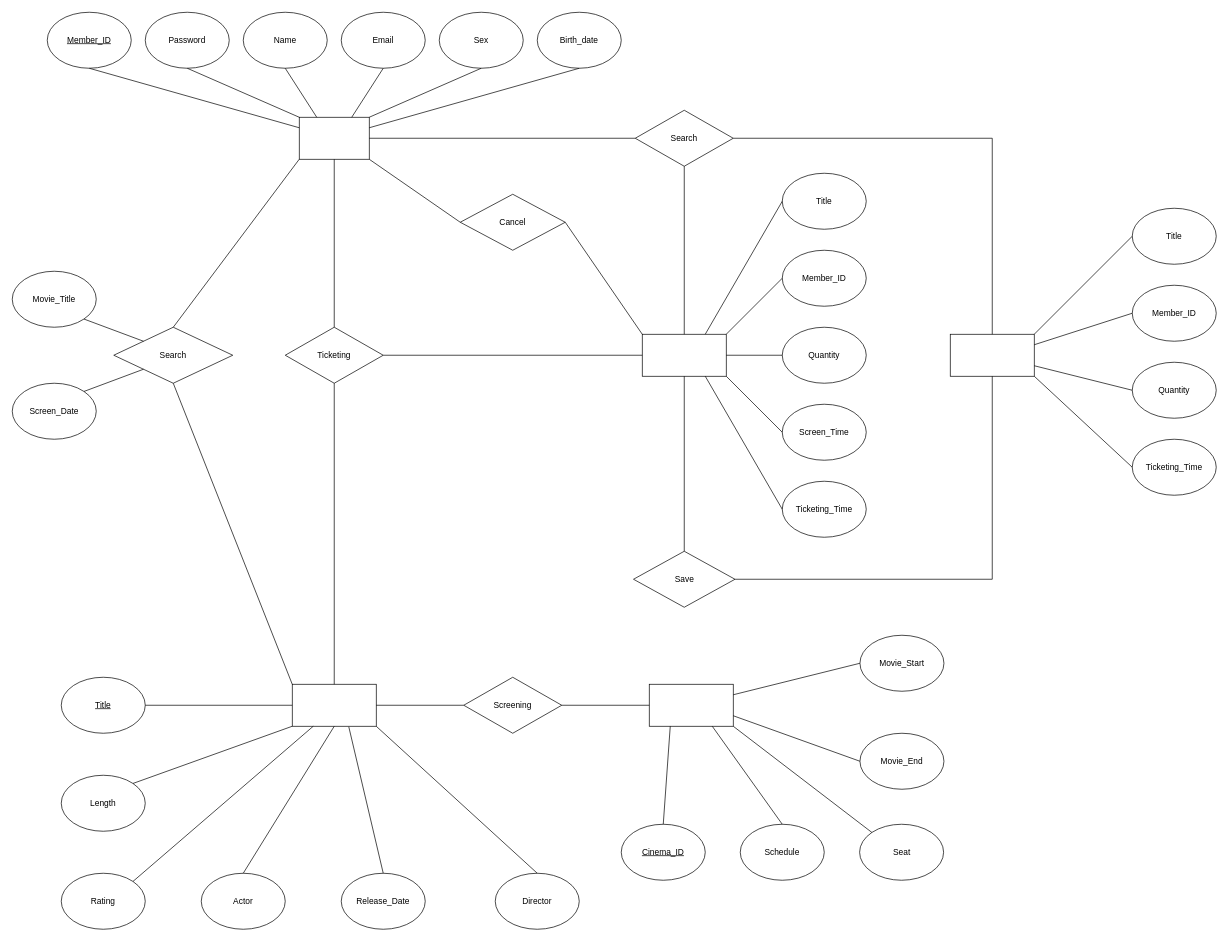
Some shapes in this 1229 by 942 pixel diagram are drawn without their labels. Here are the shapes that lost their labels. From the top down, the centre of each, then its label:
point 334,138: Member
point 684,355: Ticket_List
point 992,355: Cancel_List
point 334,705: Movie
point 691,705: Cinema
